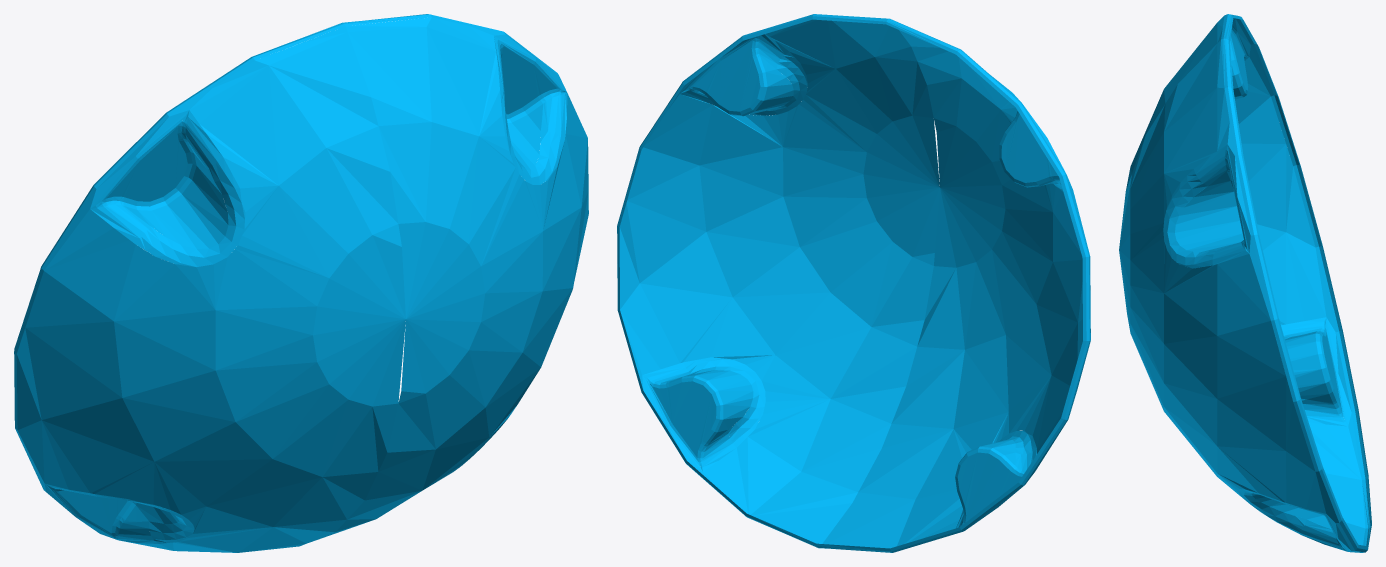
The picture shows the model from 3 angles, left to right: view 1: azimuth 30°, elevation 25°; view 2: azimuth 150°, elevation 25°; view 3: azimuth 270°, elevation 25°; orthographic projection. The views are drawn at different scales.
Visible parts, largest first — view 1: HC10.001; view 2: HC10.001; view 3: HC10.001.
Boxes of the visible parts, <box> form: HC10.001: <box>14,14,588,552</box>; HC10.001: <box>617,14,1090,552</box>; HC10.001: <box>1119,14,1371,552</box>.
Bounding box in the file's own units: 10.31 × 9.96 × 4.66.
